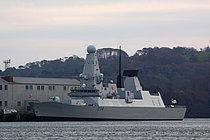MIL_Ship: (27, 44, 188, 122)
